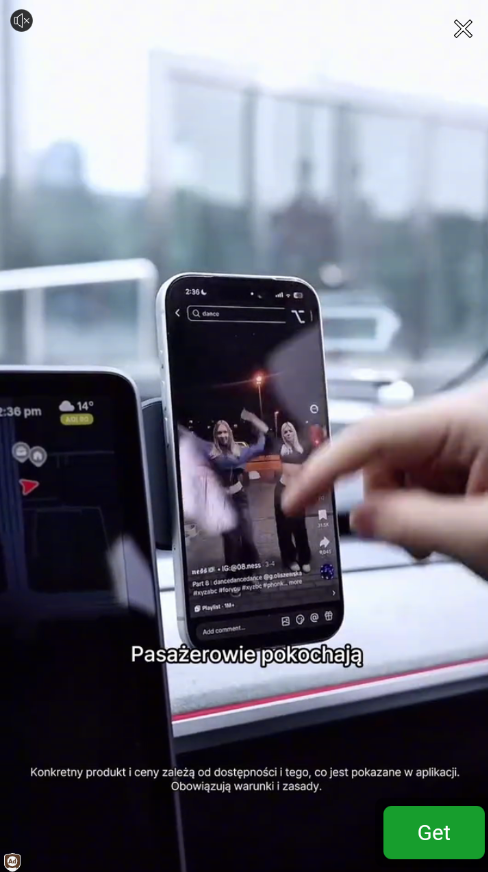close_button: (448, 13, 477, 44)
